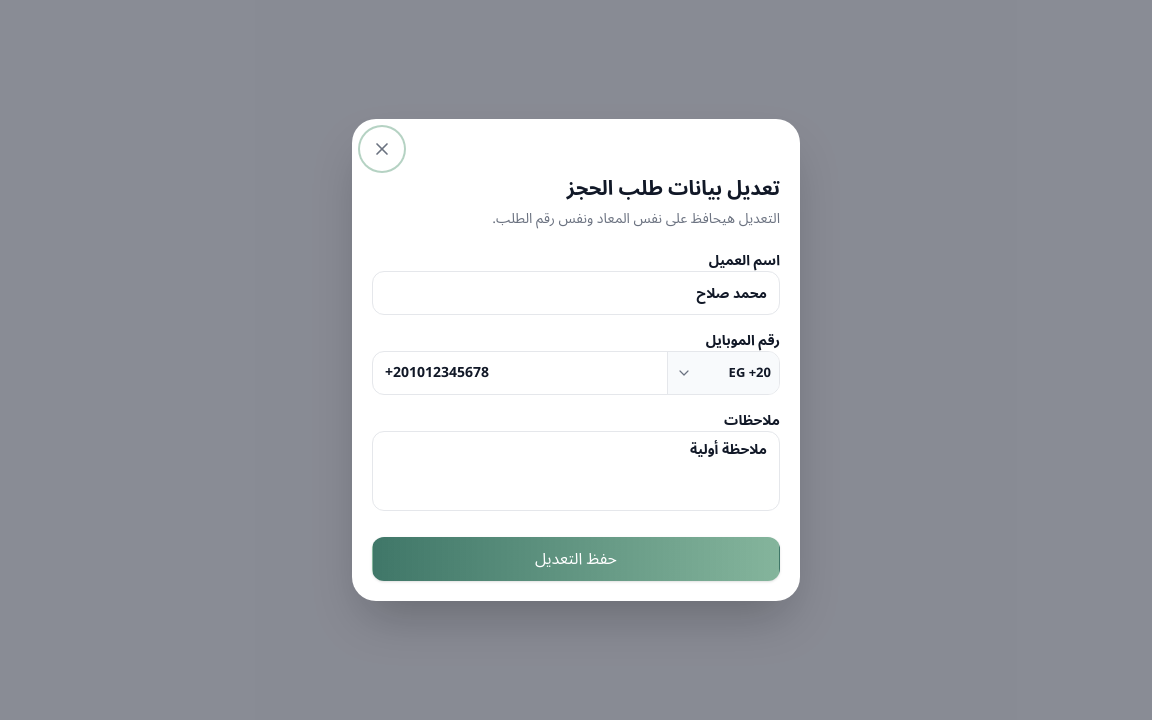
Test case: BookingRequestCustomerEditSheet › blocks submission and shows error for invalid phone number
Step 1. Replace the text in the field named "رقم الموبايل" with "01012" → [520, 373], box [373,352,667,394]
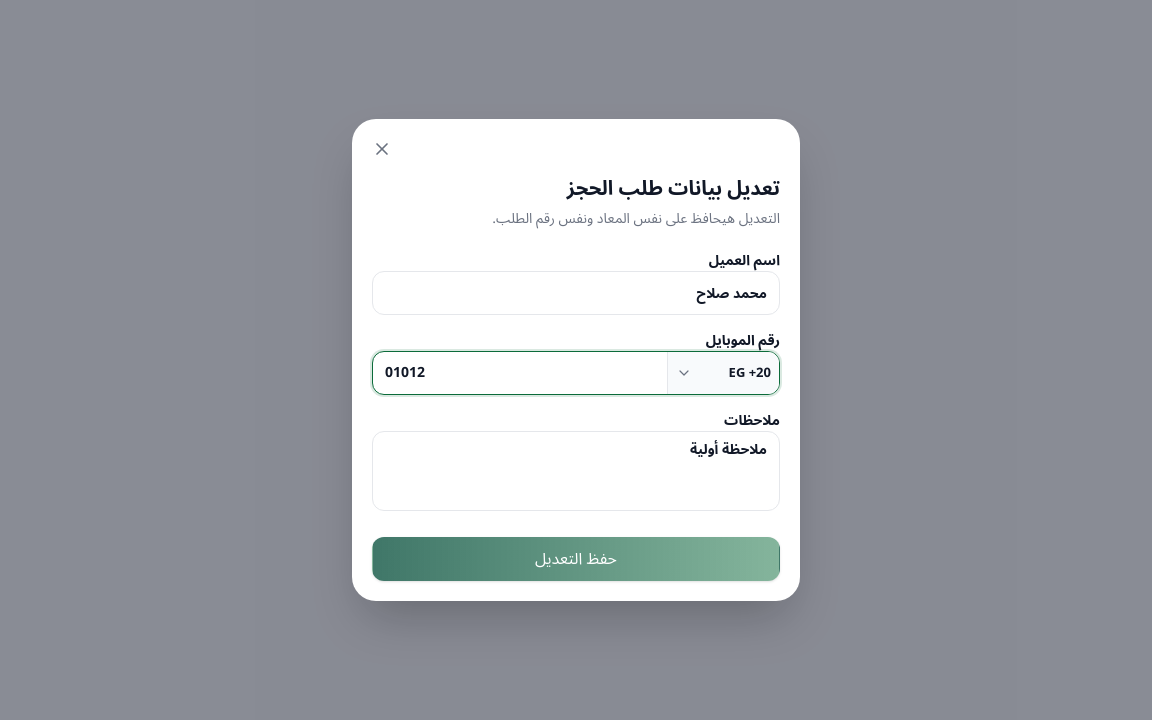
Step 2. Click the button "حفظ التعديل" → [576, 559], box [372,537,780,581]
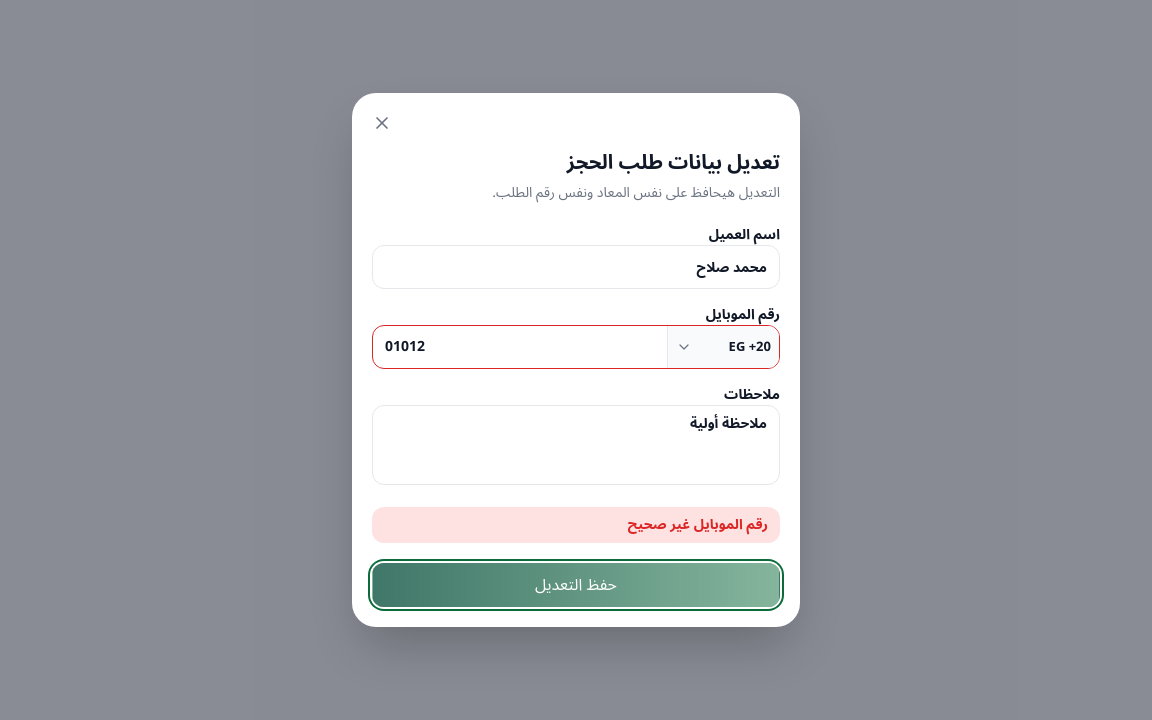
Check: the text "رقم الموبايل غير صحيح" is shown, box [372,507,780,543]
